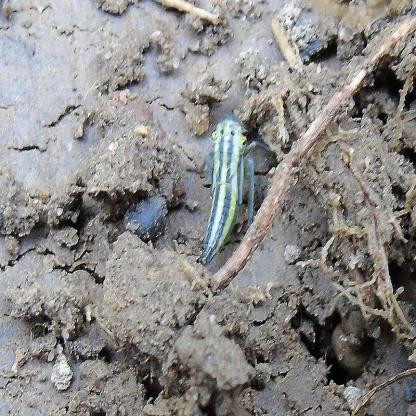Green-Leafhopper: (195, 118, 261, 270)
